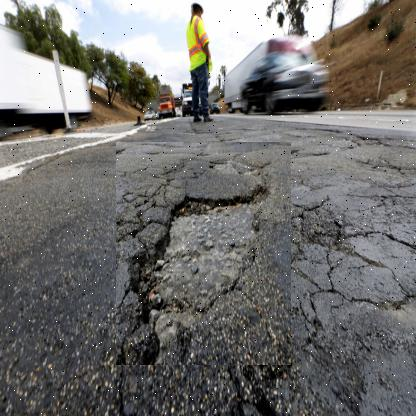damage: (116, 142, 292, 366)
